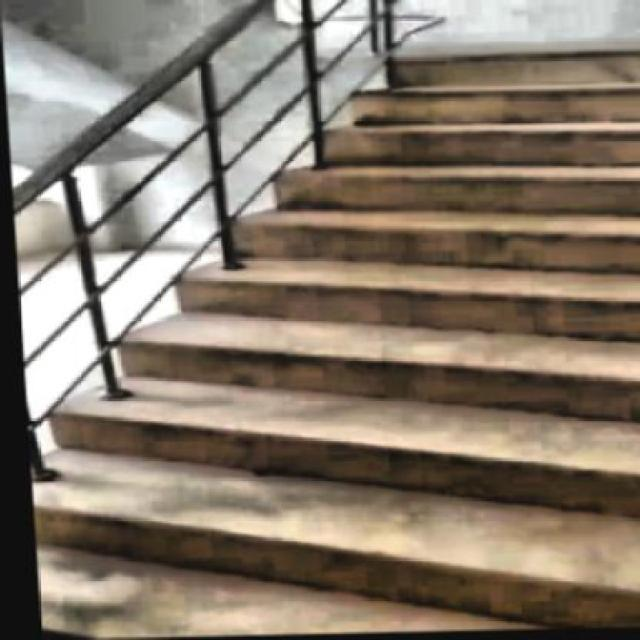stair: (3, 49, 639, 638)
